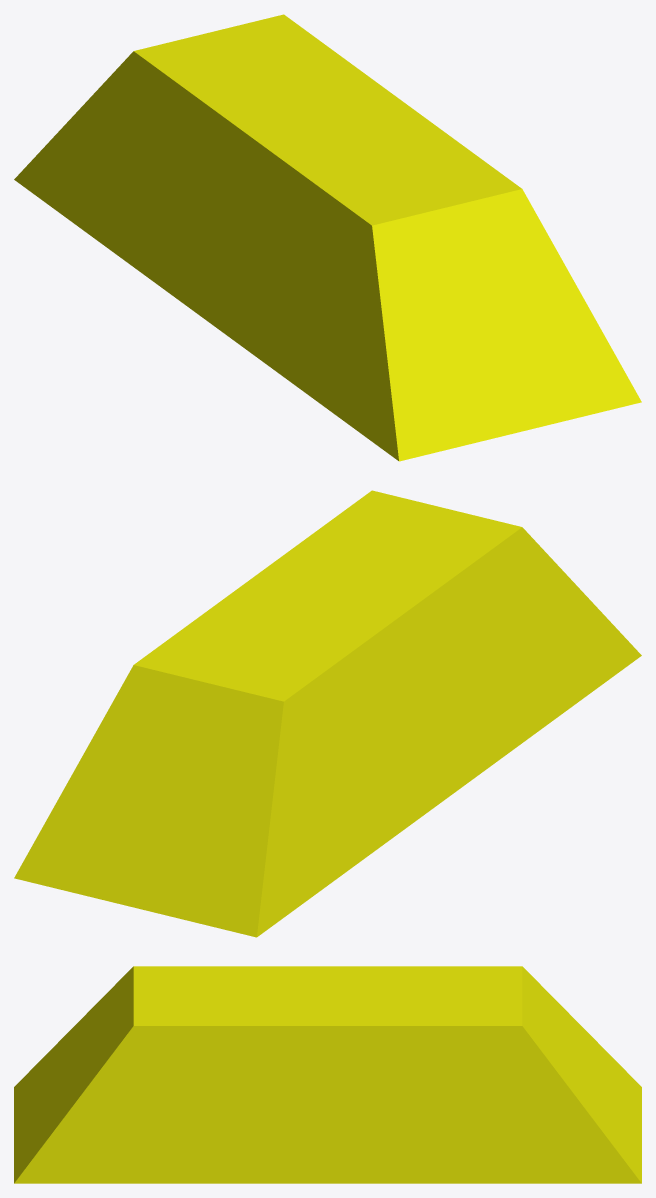
File: lingotto.fbx
3 views of the same model, one above another, from view 1: azimuth 30°, elevation 25°; view 2: azimuth 150°, elevation 25°; view 3: azimuth 270°, elevation 25° (orthographic). The views are drawn at different scales.
Parts seen in each view (by area): view 1: lingotto; view 2: lingotto; view 3: lingotto.
Part boxes in pixels (box(x1,y1,x2,y2)): lingotto: box(14, 14, 641, 461); lingotto: box(14, 490, 641, 937); lingotto: box(14, 966, 641, 1183).
Size of the model in its own units: 0.387 by 1.06 by 0.2603.
